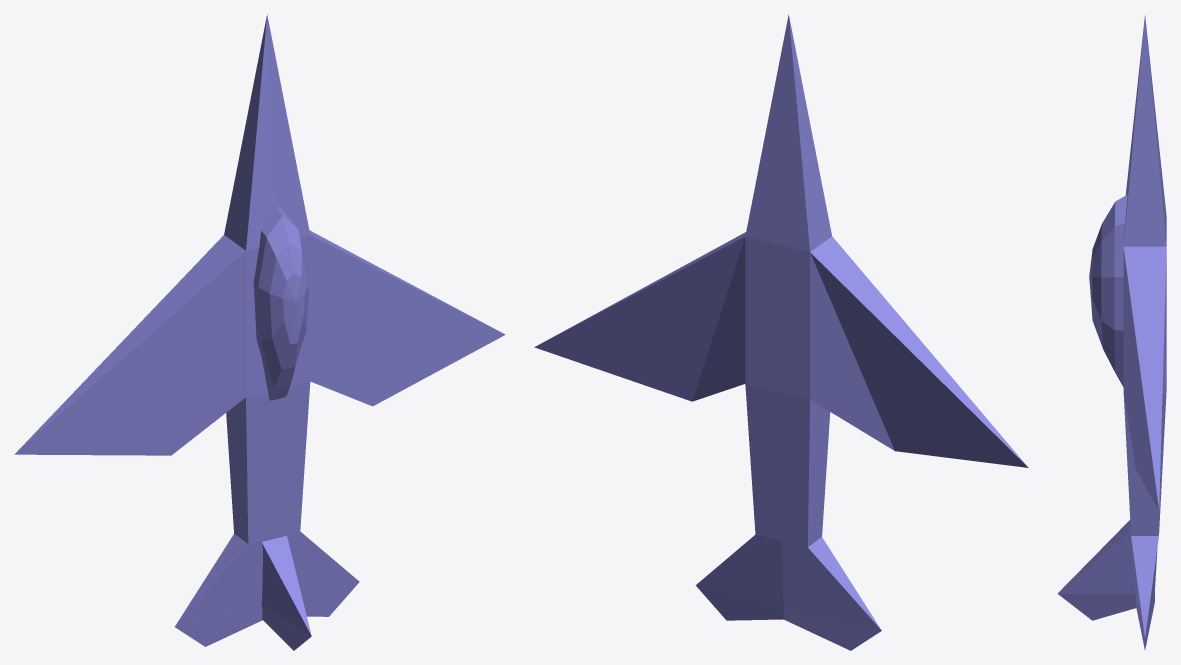
3 renders of one model, left to right at view 1: azimuth 30°, elevation 25°; view 2: azimuth 150°, elevation 25°; view 3: azimuth 270°, elevation 25°, orthographic. The views are drawn at different scales.
Visible parts, largest first — view 1: Cube; view 2: Cube; view 3: Cube.
Part boxes in pixels (bbox=[...]): Cube: bbox=[14, 14, 505, 650]; Cube: bbox=[534, 14, 1028, 650]; Cube: bbox=[1057, 15, 1166, 649].
Size of the model in its own units: 0.8288 by 0.9954 by 0.1622.
